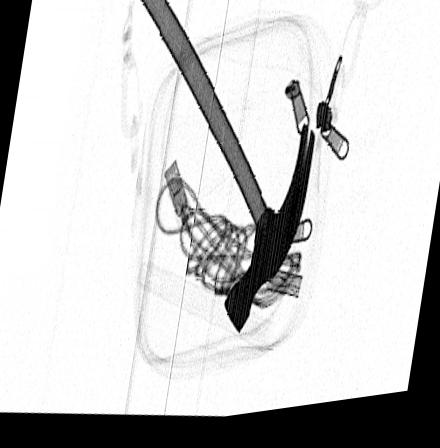Hammer: (137, 0, 315, 343)
